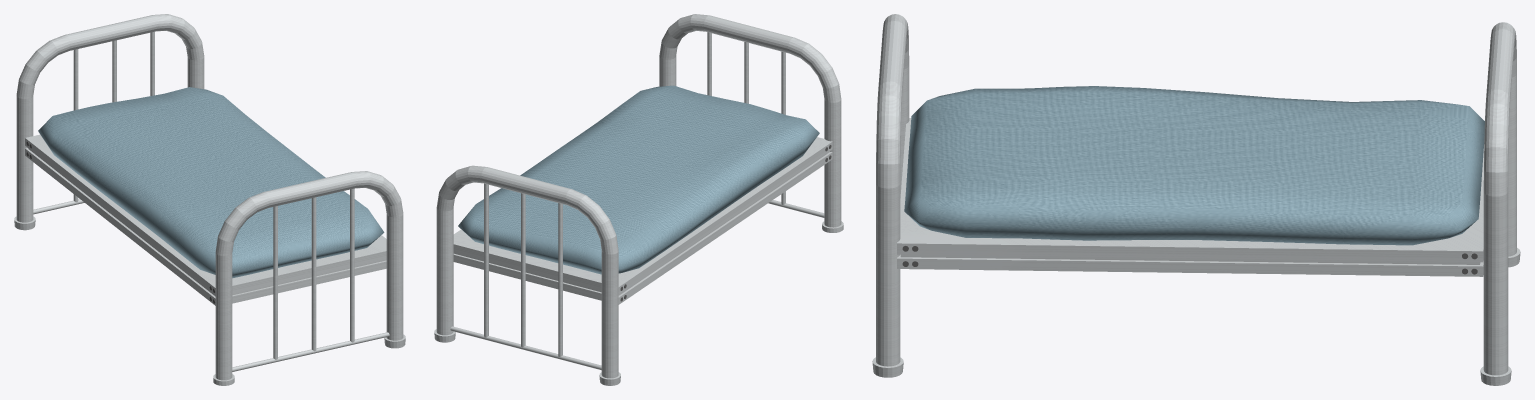
The model's file is bed_new.fbx.
3 renders of one model, left to right at view 1: azimuth 30°, elevation 25°; view 2: azimuth 150°, elevation 25°; view 3: azimuth 270°, elevation 25°, orthographic. The views are drawn at different scales.
Visible parts, largest first — view 1: bed_new_text:pCube1, bed_new_text:polySurface30, bed_new_text:polySurface26, bed_new_text:polySurface28, bed_new_text:polySurface27, bed_new_text:polySurface29, bed_new_text:polySurface6, bed_new_text:polySurface9, bed_new_text:polySurface7, bed_new_text:polySurface8, bed_new_text:polySurface12; view 2: bed_new_text:pCube1, bed_new_text:polySurface30, bed_new_text:polySurface28, bed_new_text:polySurface26, bed_new_text:polySurface29, bed_new_text:polySurface27, bed_new_text:polySurface11, bed_new_text:polySurface10, bed_new_text:polySurface12, bed_new_text:polySurface13, bed_new_text:polySurface8; view 3: bed_new_text:pCube1, bed_new_text:polySurface30, bed_new_text:polySurface29, bed_new_text:polySurface27, bed_new_text:polySurface28, bed_new_text:polySurface26.
Boxes of the visible parts, x1,y1,x2,y2 form: bed_new_text:pCube1: (38, 87, 384, 278); bed_new_text:polySurface30: (25, 134, 386, 305); bed_new_text:polySurface26: (213, 172, 357, 385); bed_new_text:polySurface28: (14, 15, 157, 230); bed_new_text:polySurface27: (352, 171, 405, 348); bed_new_text:polySurface29: (153, 14, 204, 89); bed_new_text:polySurface6: (311, 197, 316, 351); bed_new_text:polySurface9: (232, 332, 389, 371); bed_new_text:polySurface7: (350, 188, 354, 342); bed_new_text:polySurface8: (273, 206, 277, 359); bed_new_text:polySurface12: (73, 49, 78, 202); bed_new_text:pCube1: (458, 85, 819, 274); bed_new_text:polySurface30: (453, 137, 832, 304); bed_new_text:polySurface28: (481, 167, 620, 385); bed_new_text:polySurface26: (703, 15, 843, 232); bed_new_text:polySurface29: (434, 165, 485, 342); bed_new_text:polySurface27: (659, 14, 708, 86); bed_new_text:polySurface11: (450, 326, 601, 370); bed_new_text:polySurface10: (484, 183, 488, 337); bed_new_text:polySurface12: (558, 203, 562, 356); bed_new_text:polySurface13: (521, 193, 525, 347); bed_new_text:polySurface8: (781, 51, 785, 204); bed_new_text:pCube1: (904, 86, 1484, 245); bed_new_text:polySurface30: (897, 118, 1484, 276); bed_new_text:polySurface29: (1480, 89, 1511, 385); bed_new_text:polySurface27: (872, 81, 903, 377); bed_new_text:polySurface28: (1486, 22, 1520, 267); bed_new_text:polySurface26: (878, 14, 909, 197).
Bounding box in the file's own units: 1.69 × 1.47 × 3.31.
